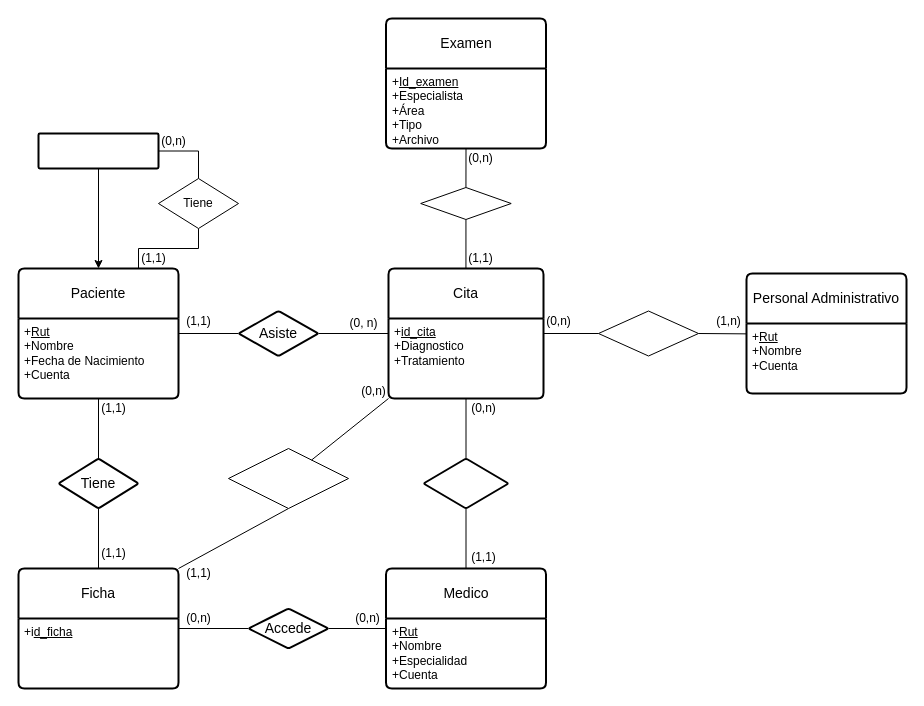
Some shapes in this 924 by 706 pixel diagram are drawn without their labels. Each missing label, with the centre of its shape:
Administra: [648,333]
Atiende: [465,483]
Carga: [98,150]
Contiene: [288,478]
Realiza: [465,203]
